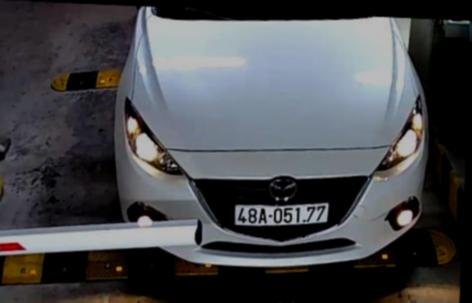License_Plate: (232, 199, 327, 232)
